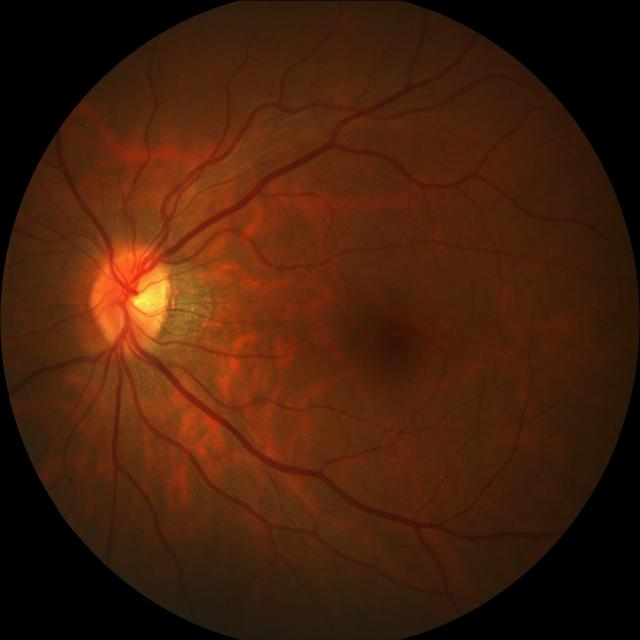OC: (117, 276, 164, 319)
OD: (94, 246, 172, 352)
